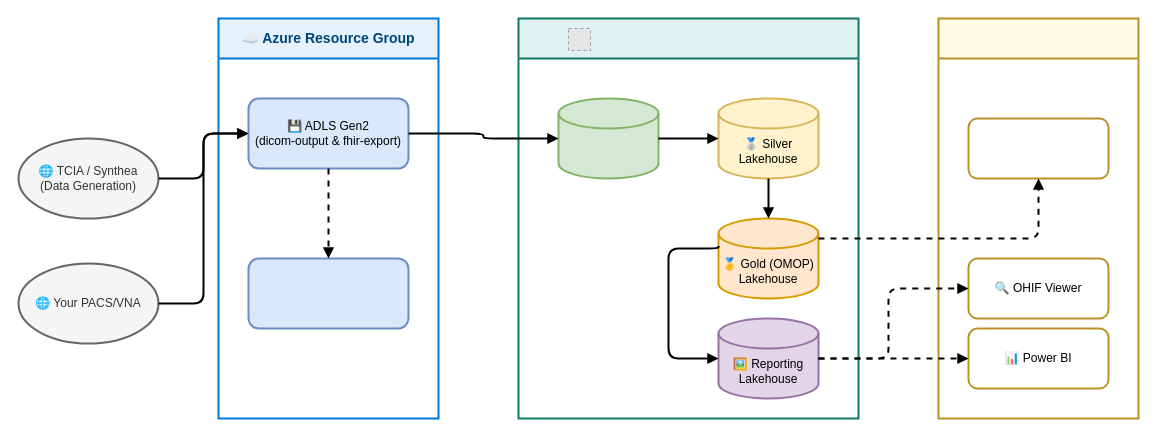
The diagram is 1156 pixels wide and 436 high, and some of its shapes have lost their labels. Grey dashed boxes stand in for pictures. Here are the shapes that lost their labels. From the top down, the box of each, then its label:
(557, 97, 659, 179): 🥉 Bronze Lakehouse
(967, 117, 1109, 179): 💬 Cohorting Agent
(517, 17, 859, 419): Microsoft Fabric Workspace
(937, 17, 1139, 419): 👥 Research/Analyst Consumers
(247, 257, 409, 329): 🏥 Health Data Services (FHIR & DICOM APIs)
